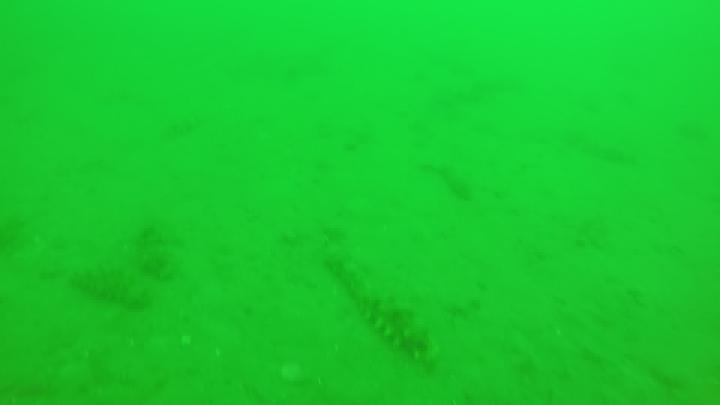holothurian: (327, 265, 440, 376), (74, 266, 155, 309)
